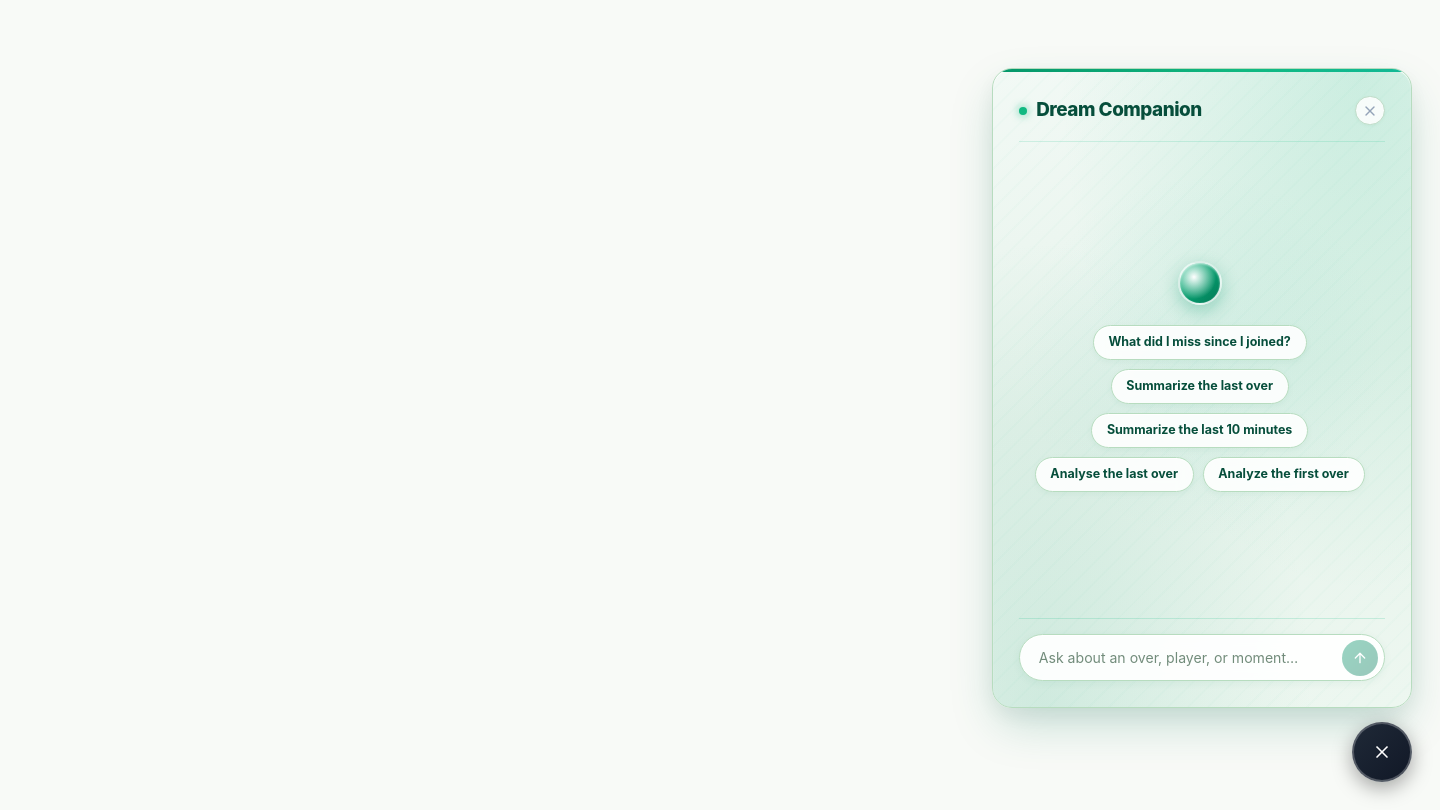
Test case: MatchCompanionChat › renders UNSUPPORTED responses with helpful limitation notices
Type "Who will win next year?" into the field named "Natural language match question" at [1190, 658], box [1039, 641, 1342, 674]
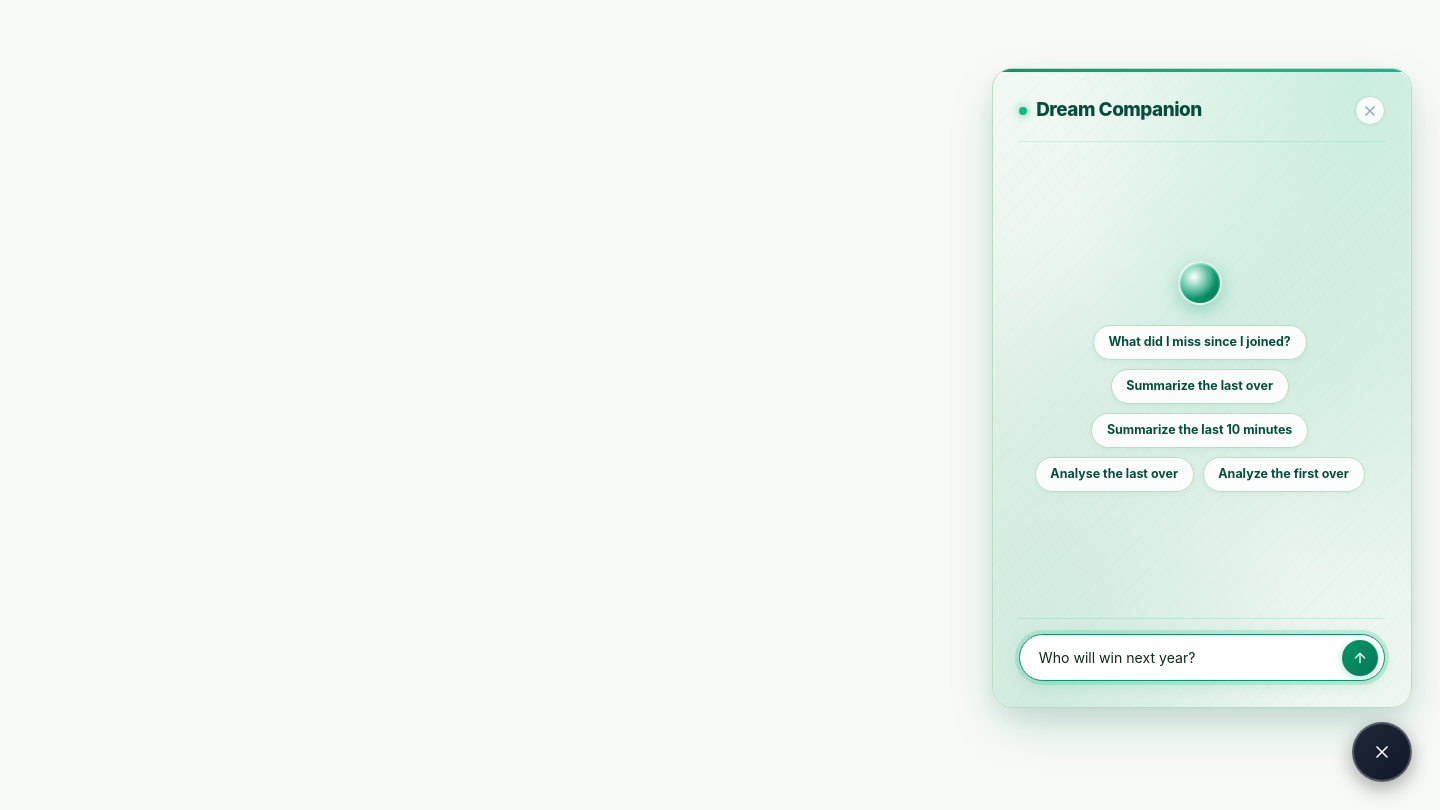
Click the button named "Send query" at [1360, 658], box [1342, 640, 1378, 676]
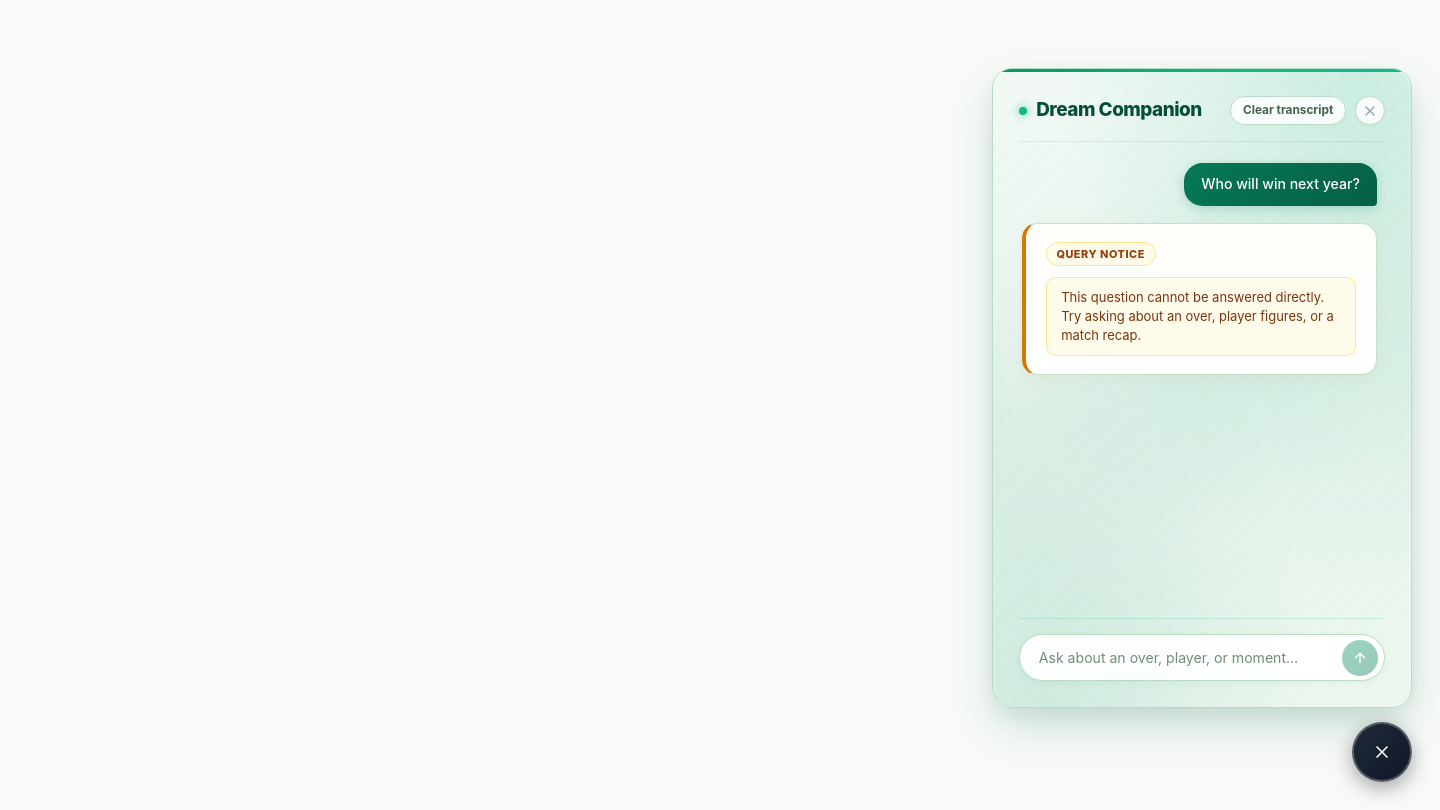
Now the text "This question cannot be answered directly" is shown, box [1061, 289, 1334, 343]
Now the text "Query Notice" is shown, box [1046, 242, 1156, 266]
